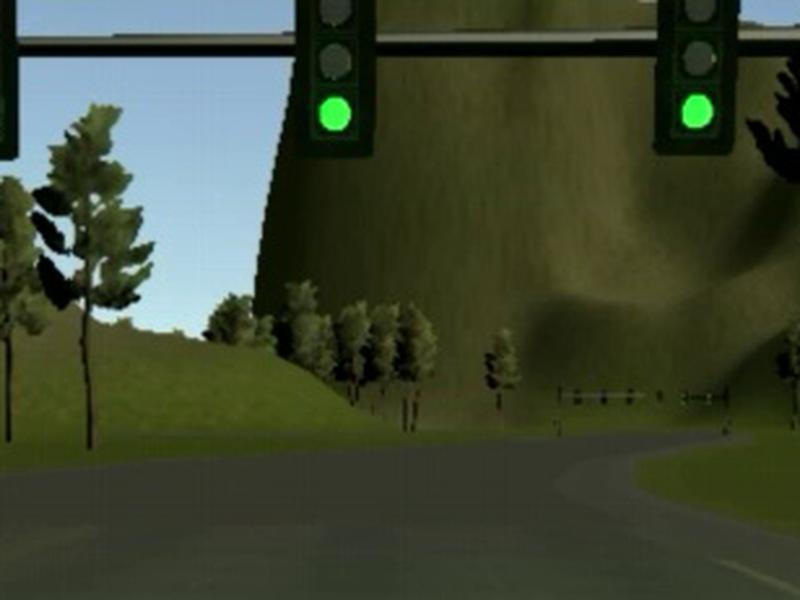Green: (653, 1, 743, 155), (296, 1, 378, 158)
